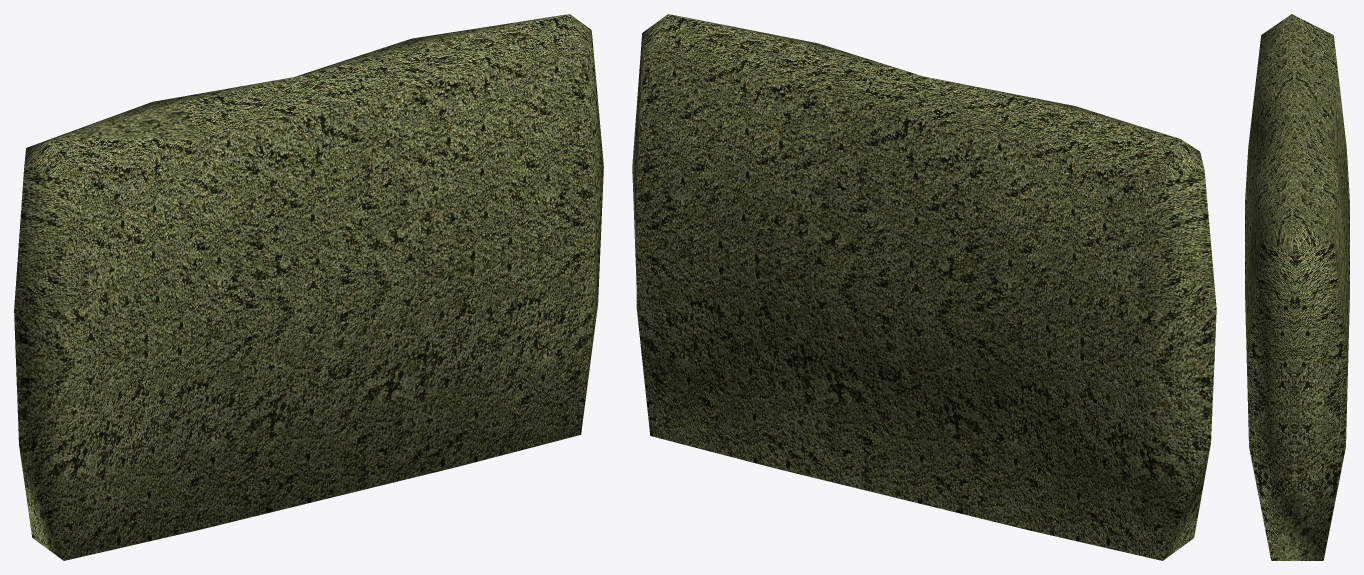
Rendered from Hedge01_High.dae.
3 renders of one model, left to right at view 1: azimuth 30°, elevation 25°; view 2: azimuth 150°, elevation 25°; view 3: azimuth 270°, elevation 25°, orthographic. The views are drawn at different scales.
Parts seen in each view (by area): view 1: Hedge1_Old; view 2: Hedge1_Old; view 3: Hedge1_Old.
Part boxes in pixels (x1=…): Hedge1_Old: x1=14, y1=14, x2=603, y2=560; Hedge1_Old: x1=632, y1=14, x2=1216, y2=560; Hedge1_Old: x1=1245, y1=14, x2=1349, y2=560.
Size of the model in its own units: 4.56 by 3.07 by 0.8504.
1 material, 1 textured.
